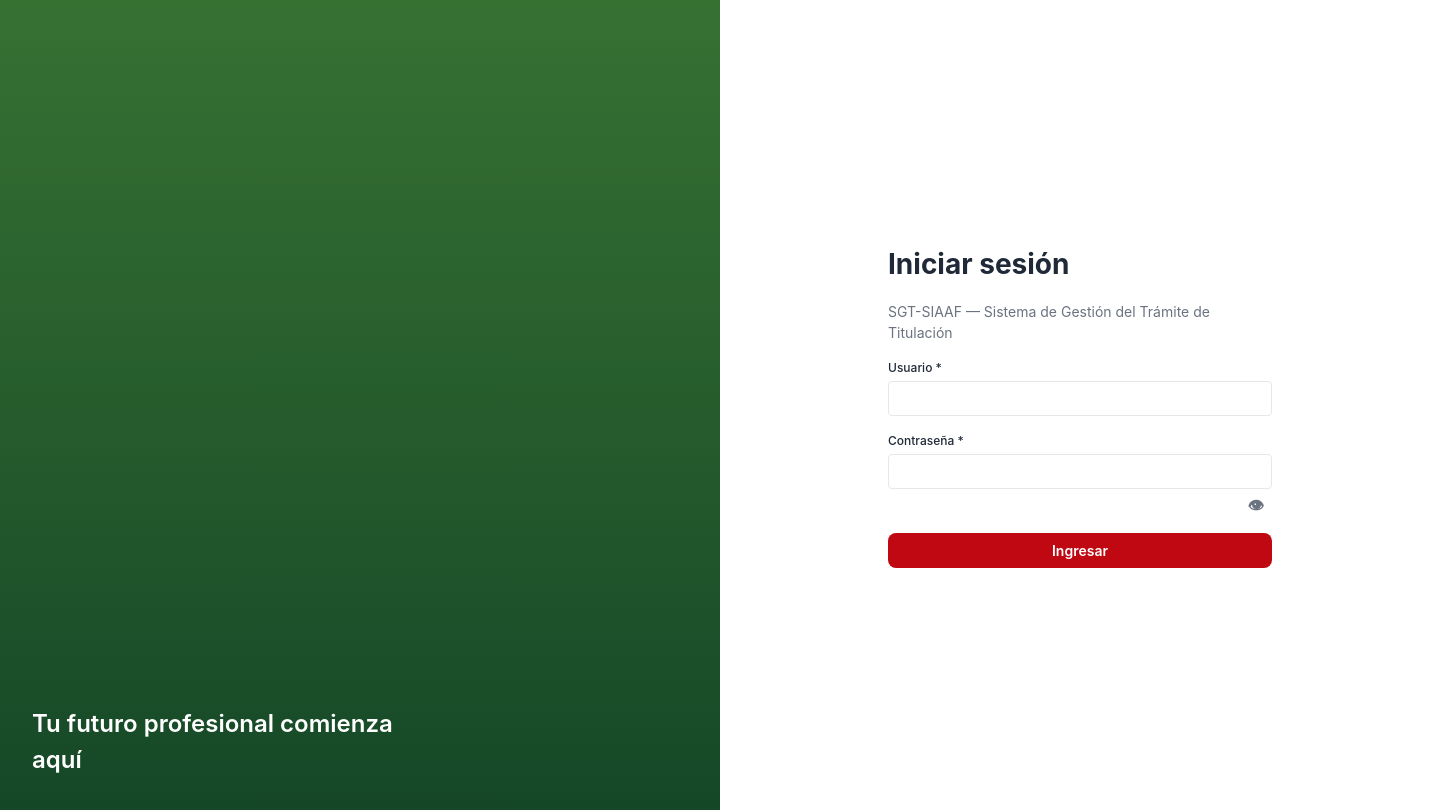
Test: LoginPage (V-01, integración real) › redirige a /bandeja cuando el rol real obtenido es operativo
The width and height of the screenshot is (1440, 810).
Type "decano.demo" into the field labelled "Usuario *" at (1080, 398), box [888,380,1272,416]
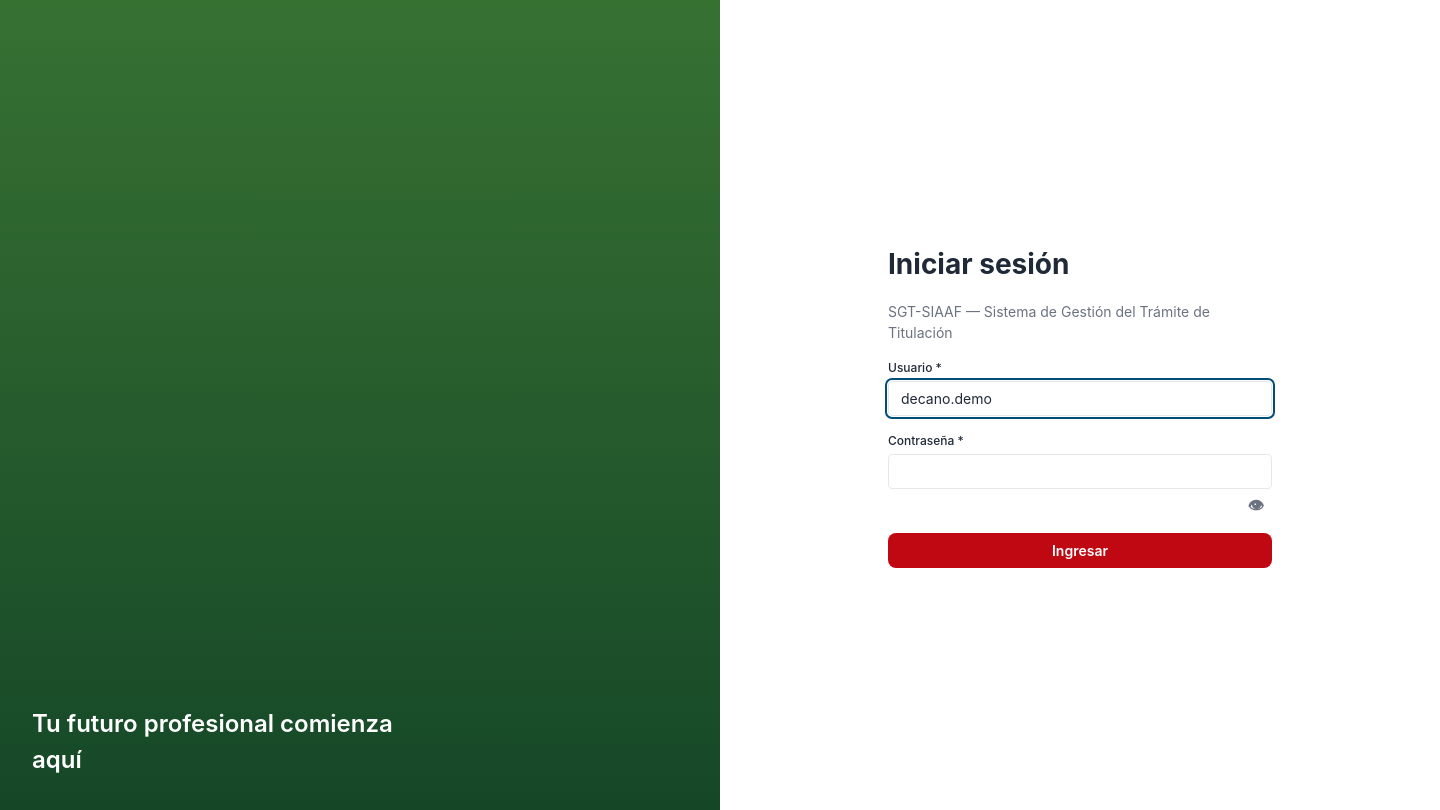
Type "cualquiera" into the password field labelled "Contraseña *" at (1080, 471), box [888,454,1272,488]
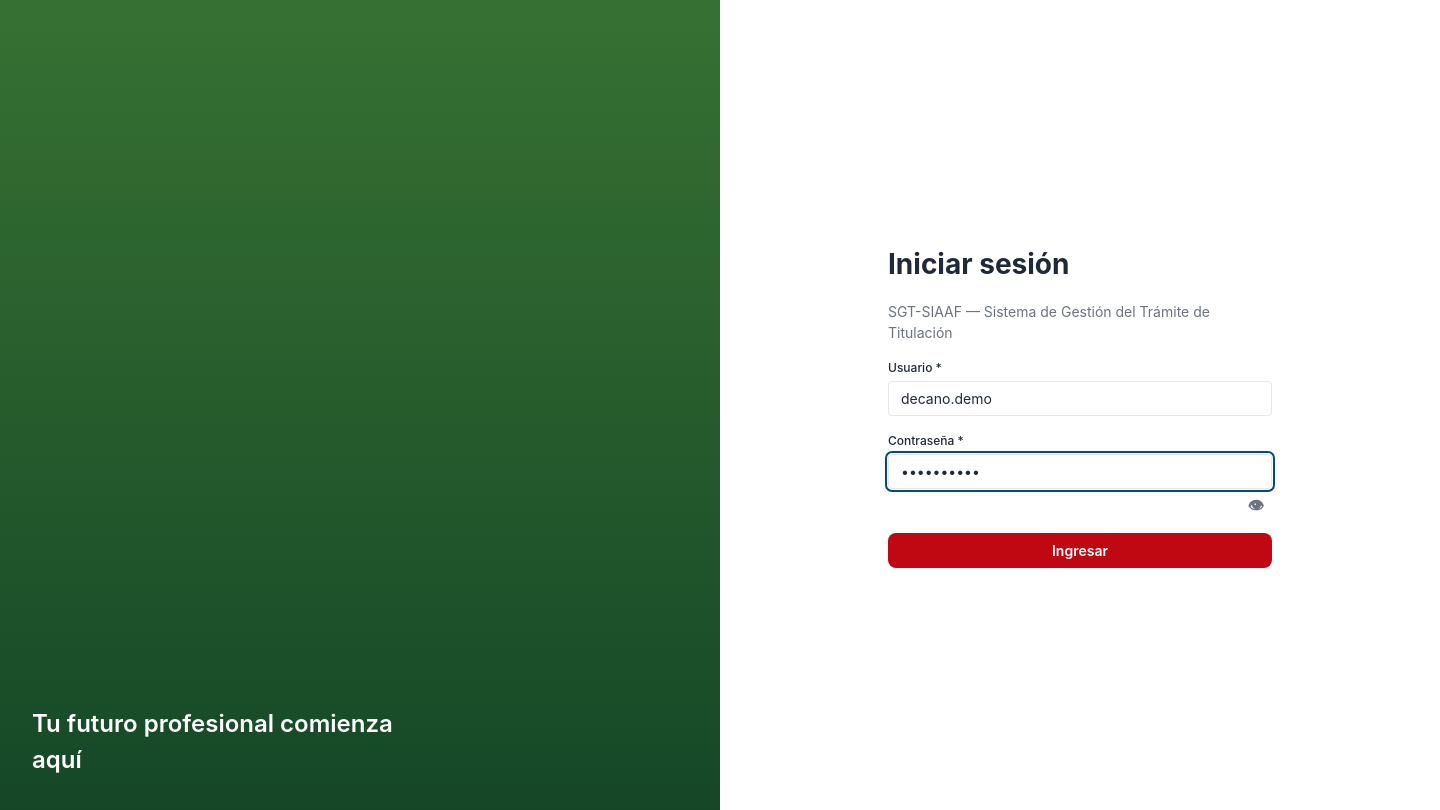
Click the button "Ingresar" at (1080, 550), box [888,532,1272,568]
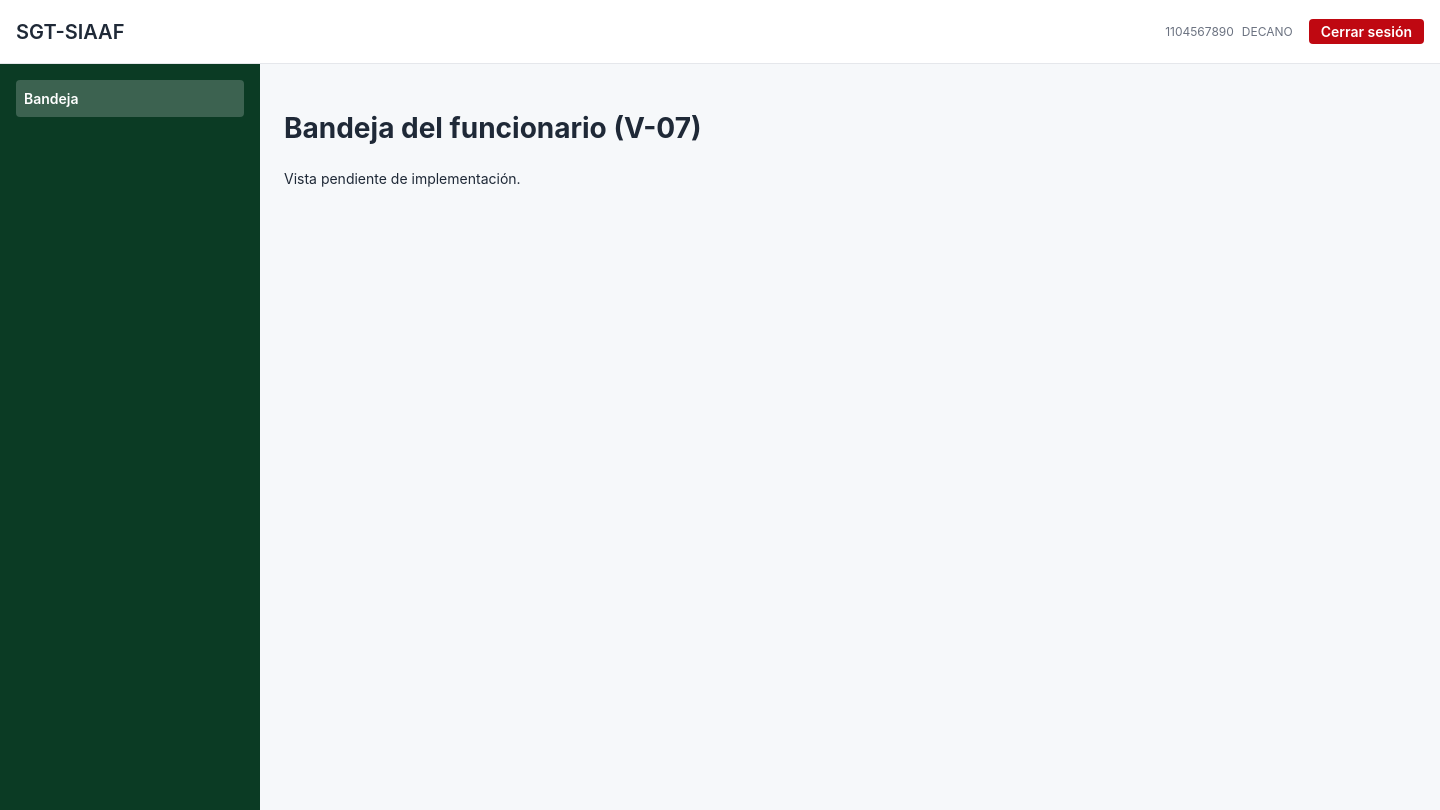
Expected: the heading "Bandeja del funcionario (V-07)" is shown, [284,111,702,145]
